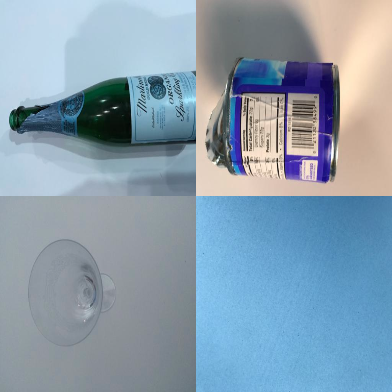cardboard: (196, 196, 392, 392)
glass: (9, 70, 196, 147), (27, 239, 116, 347)
metal: (205, 56, 341, 184)
